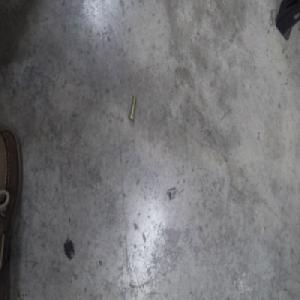Bolt: (127, 95, 137, 123)
